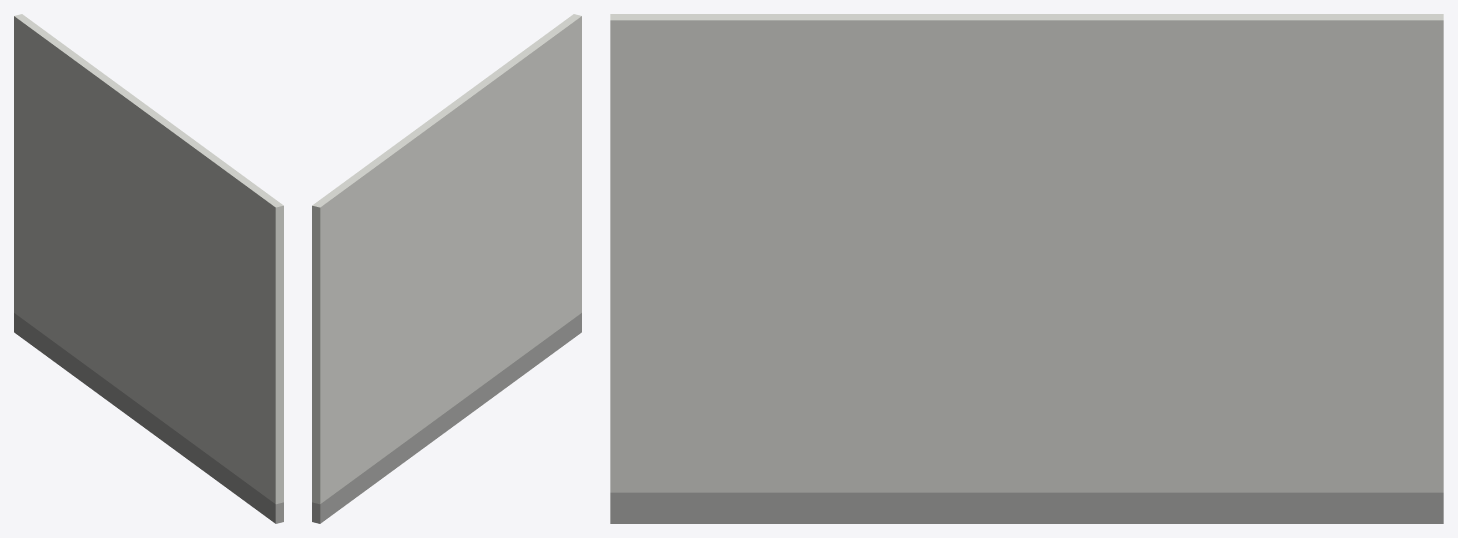
Rendered from EvelMart_Wall.fbx.
3 views of the same model, side by side, from view 1: azimuth 30°, elevation 25°; view 2: azimuth 150°, elevation 25°; view 3: azimuth 270°, elevation 25° (orthographic). The views are drawn at different scales.
Visible parts, largest first — view 1: Player Scale.001; view 2: Player Scale.001; view 3: Player Scale.001.
Part boxes in pixels (left/top/right/bottom): Player Scale.001: left=14, top=14, right=283, bottom=523; Player Scale.001: left=312, top=14, right=581, bottom=523; Player Scale.001: left=610, top=14, right=1443, bottom=523.
Bounding box in the file's own units: 32.38 × 1200 × 1800.
